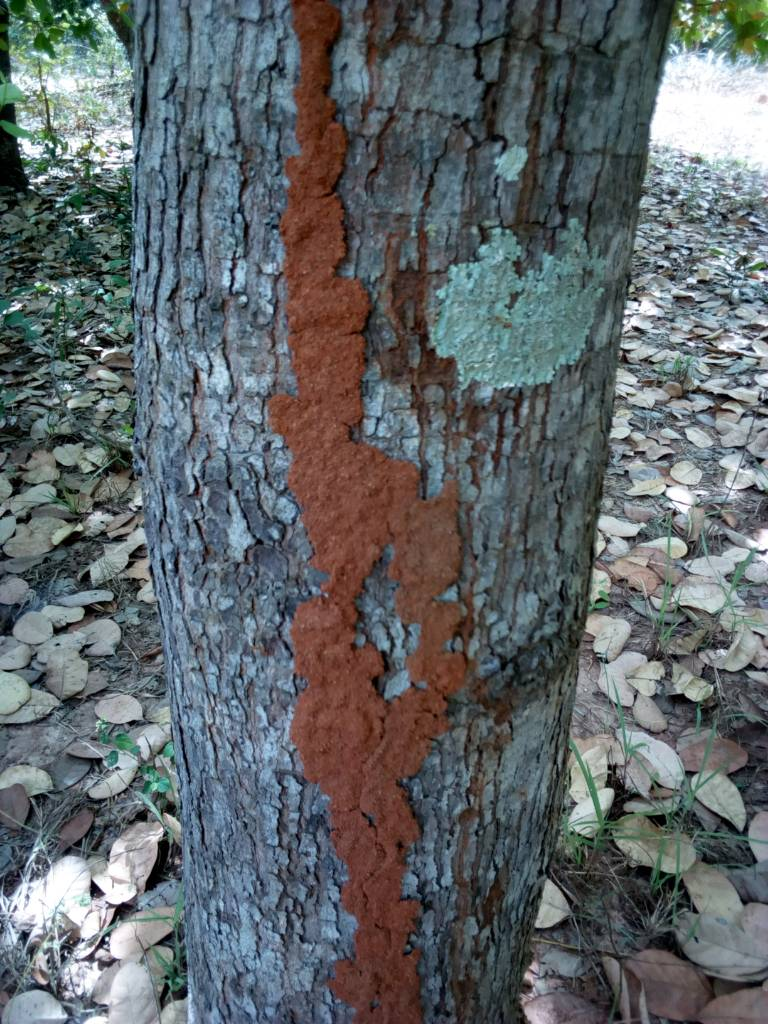Virose: (199, 11, 657, 1013)
